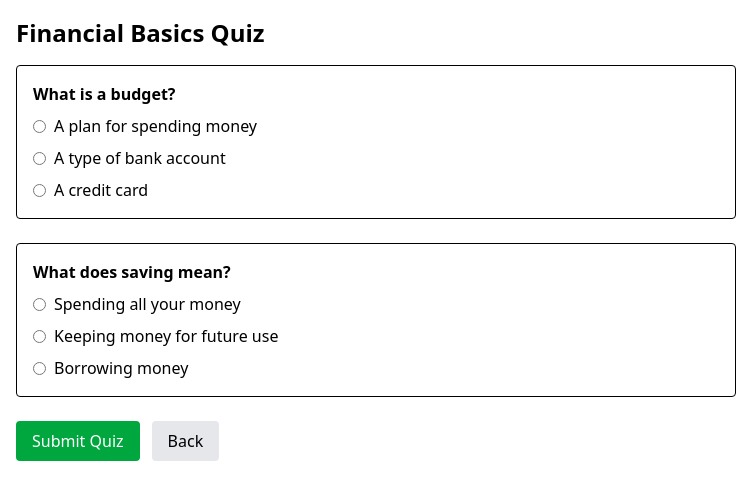
Scenario: Quiz › shows loading state while submitting
The width and height of the screenshot is (753, 478).
Expected: the heading "Financial Basics Quiz" is shown, x1=16 y1=16 x2=264 y2=49
Click the radio button labelled "A plan for spending money".
click(40, 126)  # box x1=33 y1=120 x2=46 y2=132
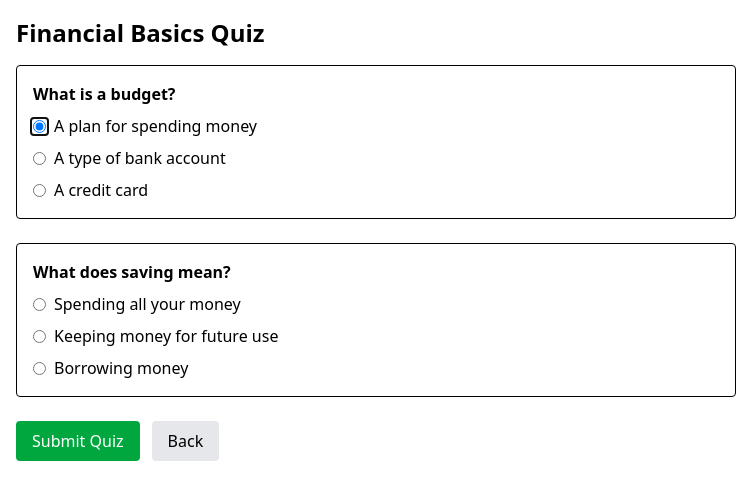
Click the button "Submit Quiz".
click(78, 441)  # box x1=16 y1=421 x2=140 y2=461
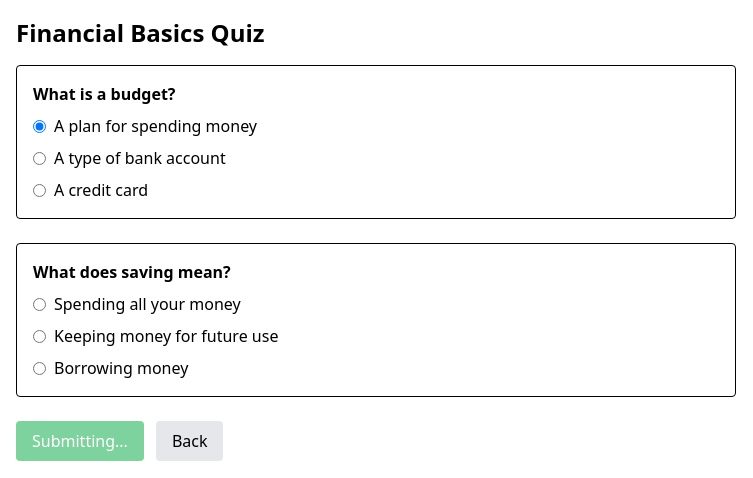
Result: the button "Submitting..." is shown at x1=16 y1=421 x2=144 y2=461
